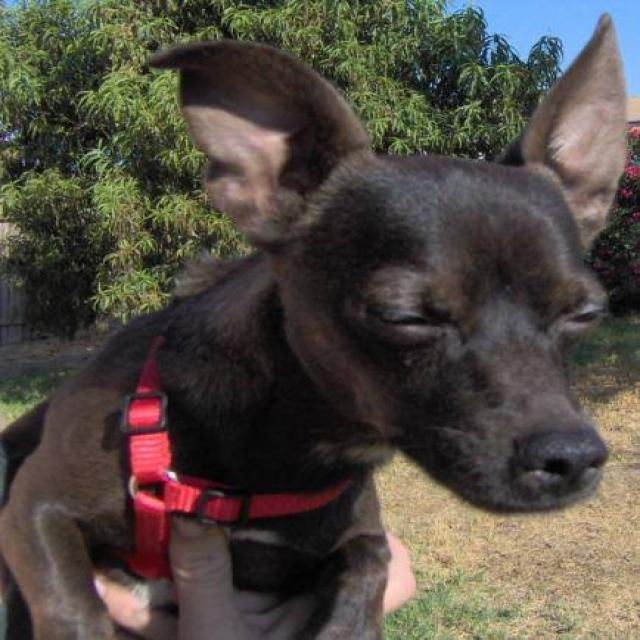dogs: (8, 13, 632, 640)
